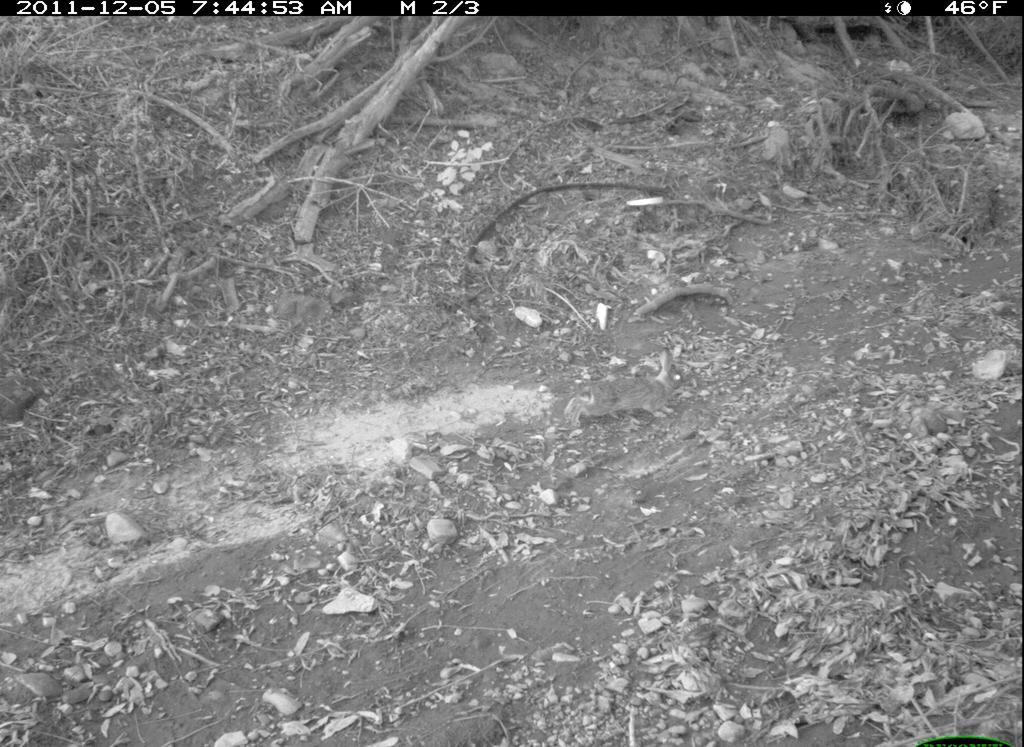rabbit: (564, 345, 692, 433)
